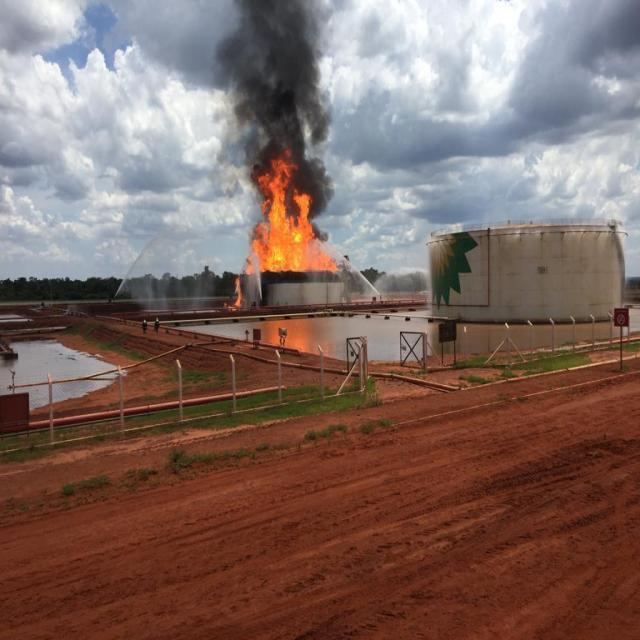Fire: (243, 194, 337, 276)
Smoke: (228, 4, 329, 150)
